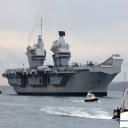Portanaves: (3, 16, 125, 99)
